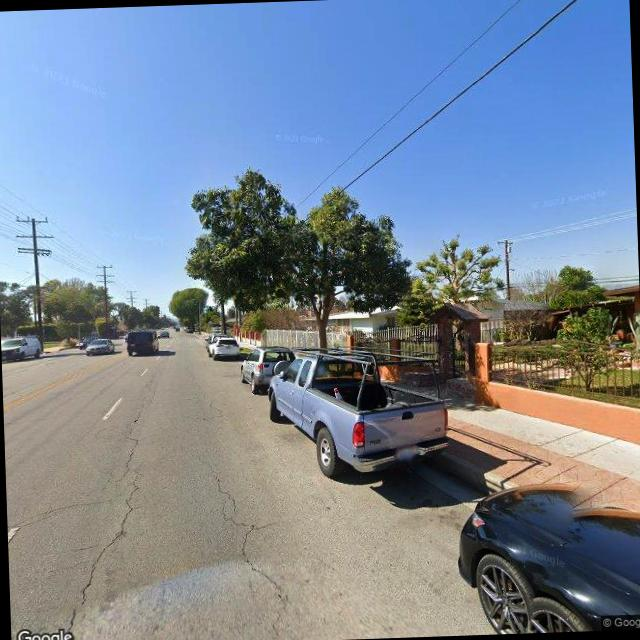pothole: (46, 395, 164, 640), (194, 452, 286, 640)
